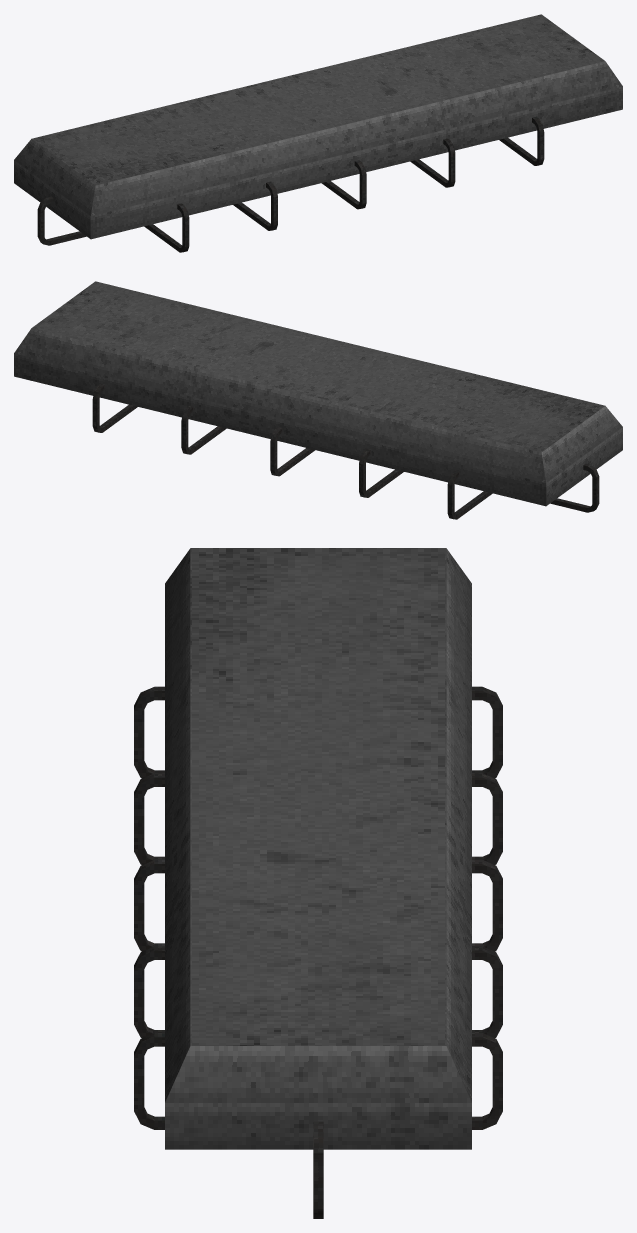
The model's file is ceiling_lamp_4_1_on.glb.
3 views of the same model, one above another, from view 1: azimuth 30°, elevation 25°; view 2: azimuth 150°, elevation 25°; view 3: azimuth 270°, elevation 25° (orthographic). The views are drawn at different scales.
Parts seen in each view (by area): view 1: ceiling_lamp_4_1_on, ceiling_lamp_4_1_on_protector; view 2: ceiling_lamp_4_1_on, ceiling_lamp_4_1_on_protector; view 3: ceiling_lamp_4_1_on, ceiling_lamp_4_1_on_protector.
Part boxes in pixels (<box>): ceiling_lamp_4_1_on: <box>14,14,622,239</box>; ceiling_lamp_4_1_on_protector: <box>37,116,544,252</box>; ceiling_lamp_4_1_on: <box>14,281,622,506</box>; ceiling_lamp_4_1_on_protector: <box>92,383,599,519</box>; ceiling_lamp_4_1_on: <box>165,548,471,1149</box>; ceiling_lamp_4_1_on_protector: <box>134,686,502,1218</box>.
Bounding box in the file's own units: 1.26 × 0.17 × 0.36.
2 materials, 2 textured.
